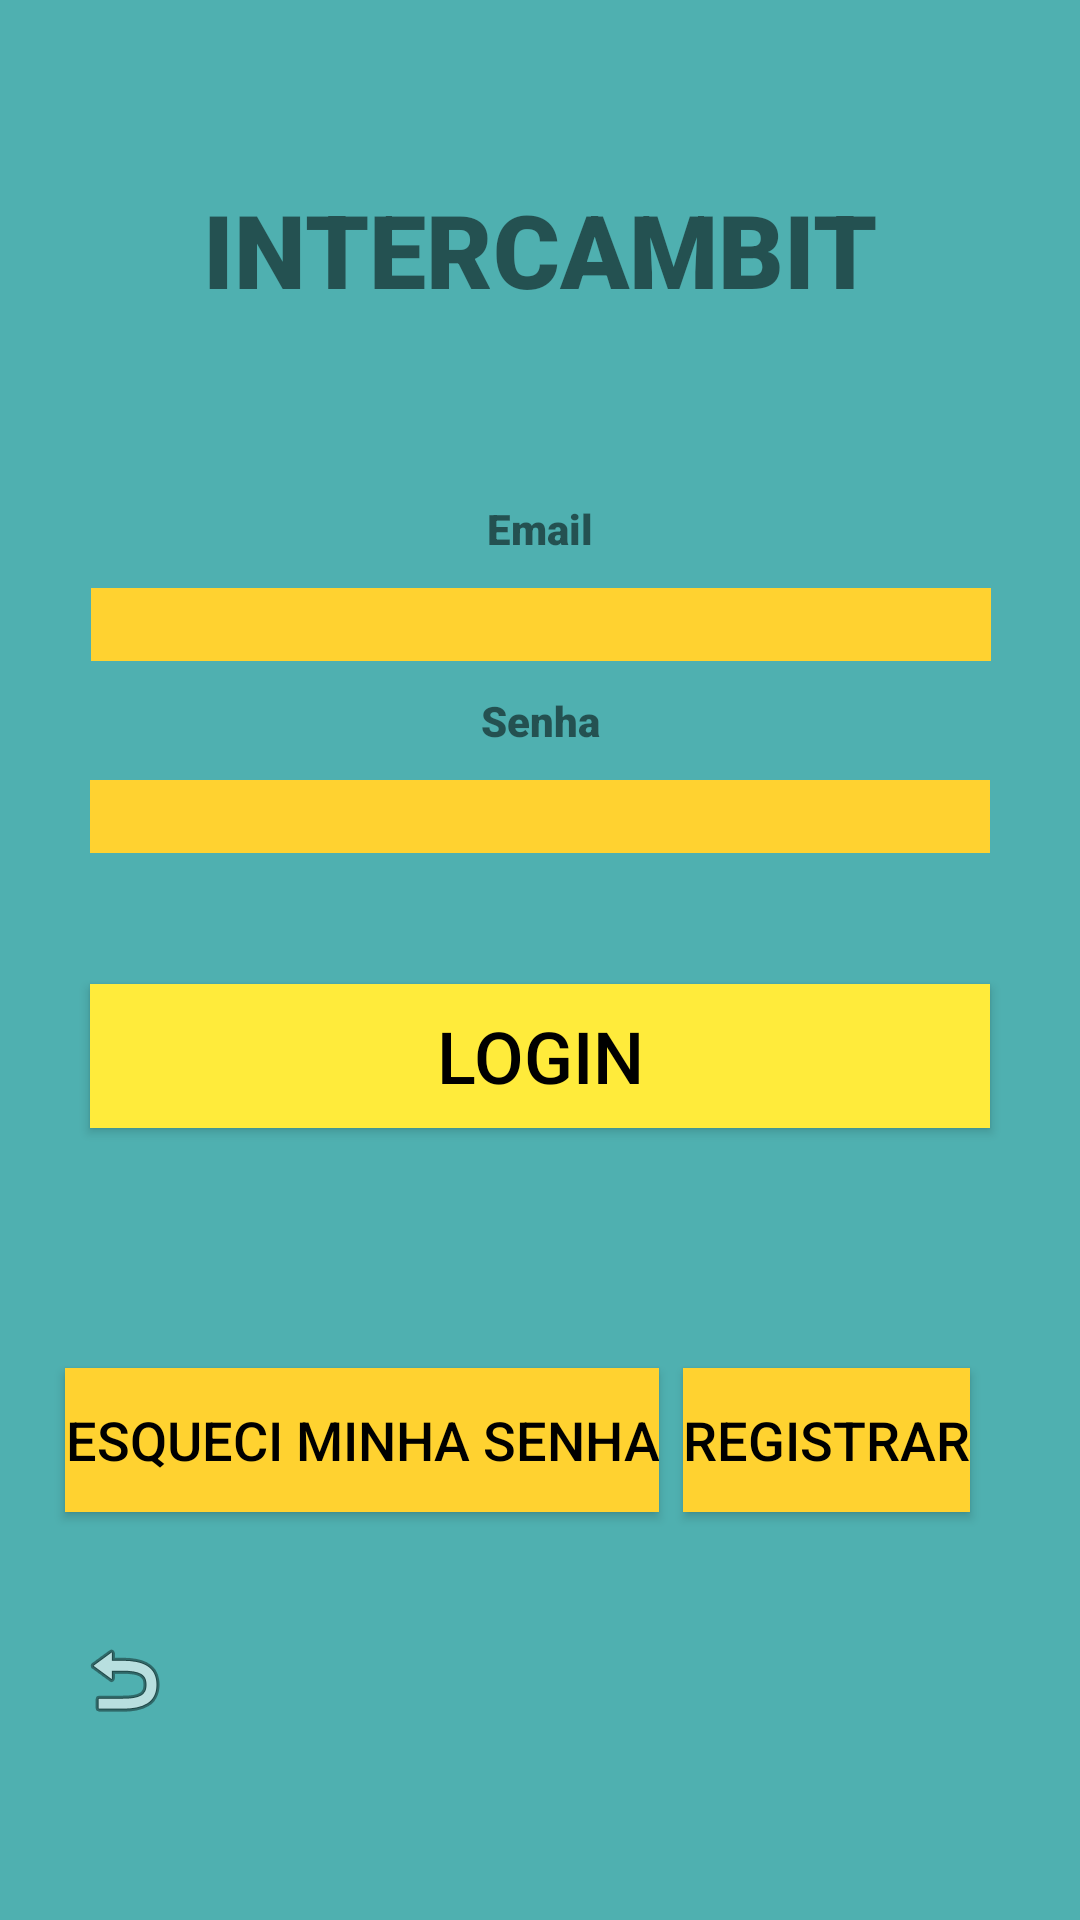

Screen size 1080px×1920px. Icon name, then its box in pixels as [x1=x1, y1=y1, x2=x2, y2=y2]:
revert: [x1=91, y1=1649, x2=160, y2=1712]
